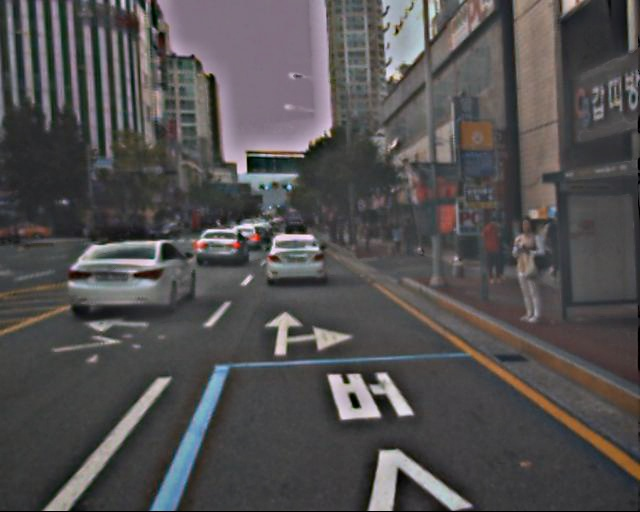person: (503, 216, 548, 326), (477, 215, 507, 288), (402, 217, 417, 254), (389, 222, 402, 254)
